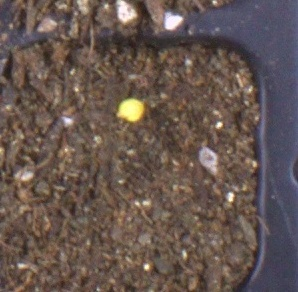chilli seed: (115, 97, 145, 122)
